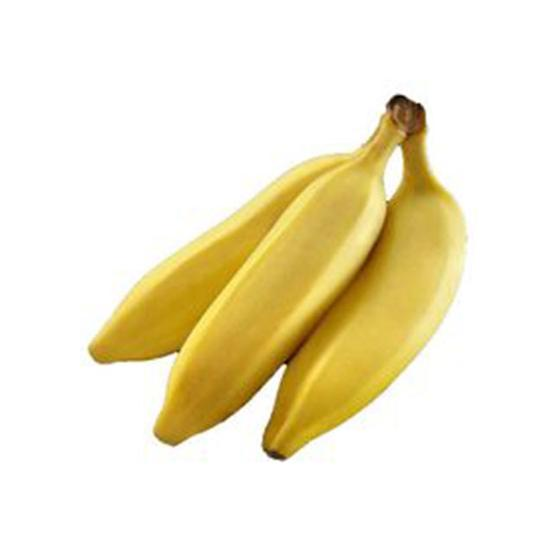banana: (238, 86, 484, 481)
